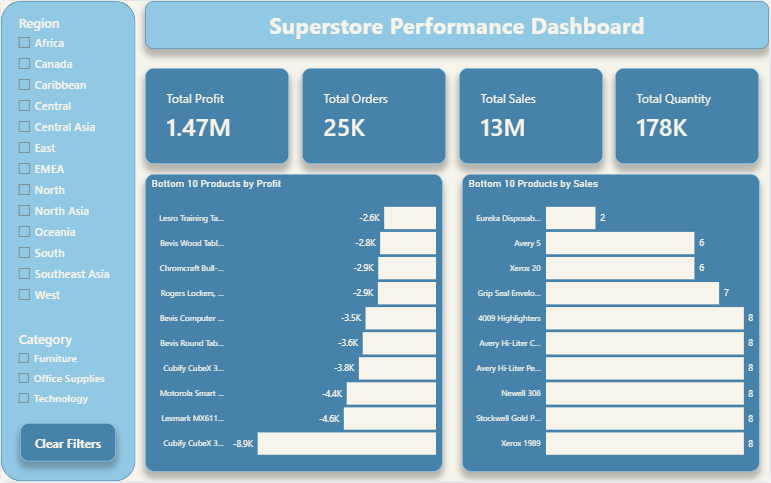

This screenshot's page, from the dashboard's own definition file:
{"tool":"powerbi","page":{"name":"Duplicate of Page 1","canvas":[1280,800],"ordinal":3},"visuals":[{"type":"textbox","box":[240,0,1040,80],"z":0},{"type":"cardVisual","title":"fefeg","fields":{"Data":["Measure.Total Sales"]},"box":[762.7,112,240,160],"z":1000},{"type":"cardVisual","title":"fefeg","fields":{"Data":["Measure.Total Quantity"]},"box":[1024,112,240,160],"z":2000},{"type":"cardVisual","title":"fefeg","fields":{"Data":["Measure.Total Orders"]},"box":[501.3,112,240,160],"z":3000},{"type":"shape","box":[0,0,224,800],"z":4000},{"type":"cardVisual","title":"fefeg","fields":{"Data":["Measure.Total Profit"]},"box":[240,112,240,160],"z":5000},{"type":"slicer","fields":{"Values":["superstore.Region"]},"box":[16,16,224,528],"z":6000},{"type":"slicer","fields":{"Values":["superstore.Category"]},"box":[16,544,224,240],"z":7000},{"type":"clusteredBarChart","title":"Bottom 10 Products by Profit","fields":{"Category":["superstore.Product-Name"],"Y":["Sum(superstore.Profit)"]},"box":[240,288,496,496],"z":8000},{"type":"clusteredBarChart","title":"Bottom 10 Products by Sales","fields":{"Category":["superstore.Product-Name"],"Y":["Sum(superstore.Sales)"]},"box":[768,288,496,496],"z":9000},{"type":"actionButton","box":[32,704,160,64],"z":10000}]}

Visuals, with their boxes in screenshot pixels (x1, y1, x2, y2), scaled from the page's 1280x800 canvas onto the 771x483 screenshot:
textbox: BBox(145, 0, 770, 48)
"fefeg" cardVisual: BBox(459, 68, 604, 164)
"fefeg" cardVisual: BBox(617, 68, 761, 164)
"fefeg" cardVisual: BBox(302, 68, 447, 164)
shape: BBox(0, 0, 135, 482)
"fefeg" cardVisual: BBox(145, 68, 289, 164)
slicer - superstore.Region: BBox(10, 10, 145, 328)
slicer - superstore.Category: BBox(10, 328, 145, 473)
"Bottom 10 Products by Profit" clusteredBarChart: BBox(145, 174, 443, 473)
"Bottom 10 Products by Sales" clusteredBarChart: BBox(463, 174, 761, 473)
actionButton: BBox(19, 425, 116, 464)
